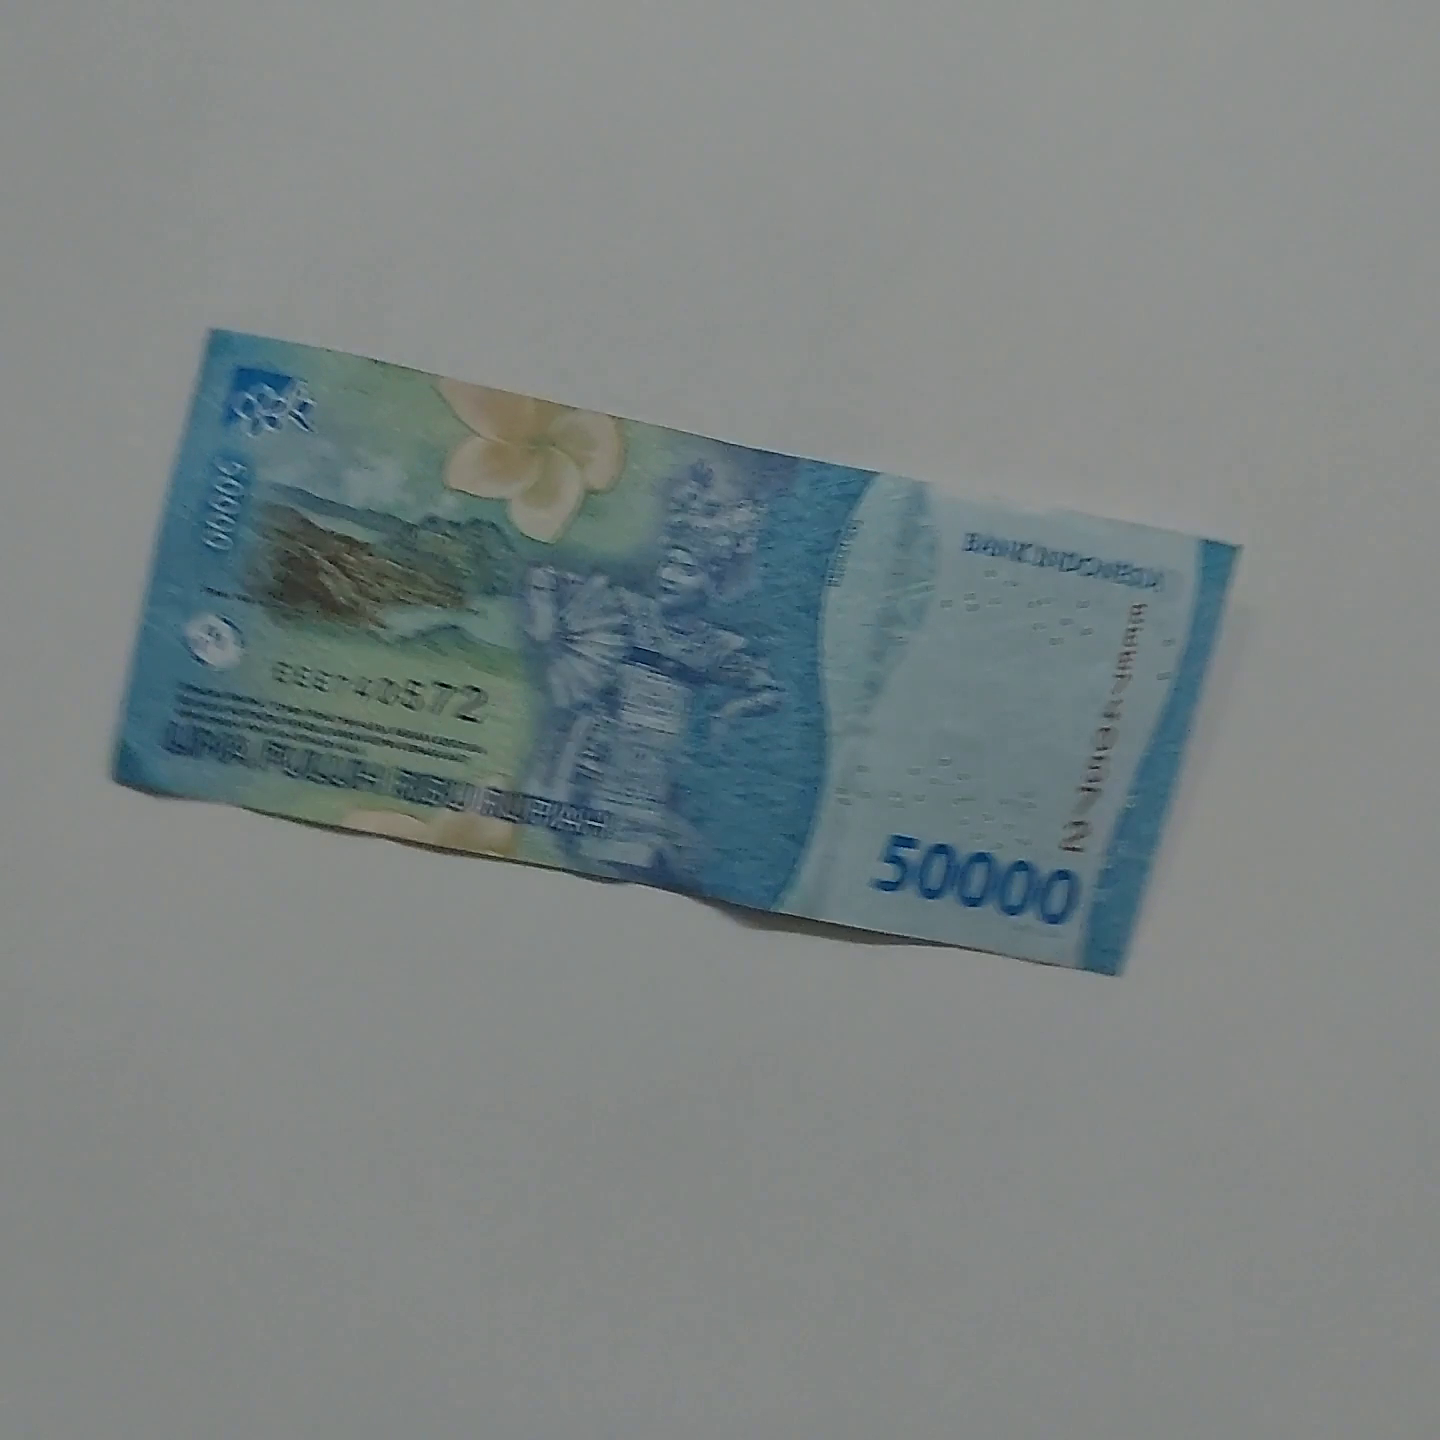50k: (164, 299, 1286, 790)
